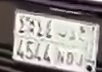4: (43, 19, 54, 63), (16, 15, 26, 59), (35, 20, 43, 62)
5: (25, 19, 36, 61)
D: (65, 31, 77, 65)
J: (75, 27, 88, 67)
N: (56, 27, 68, 64)
